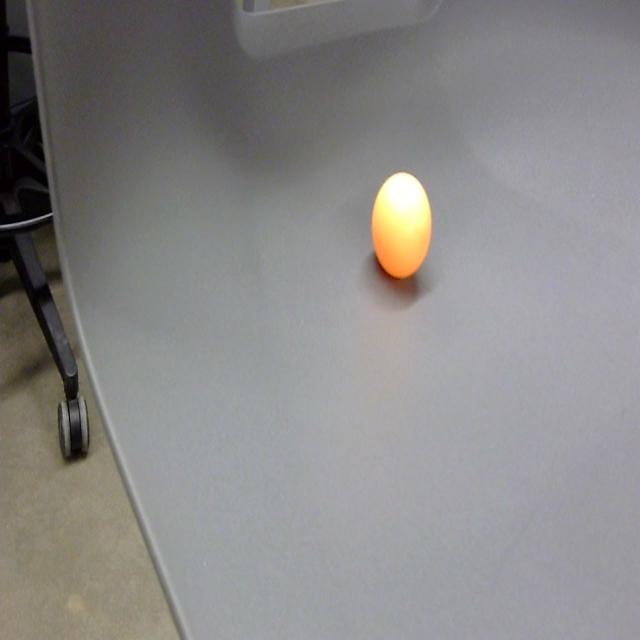ball: (369, 163, 435, 287)
